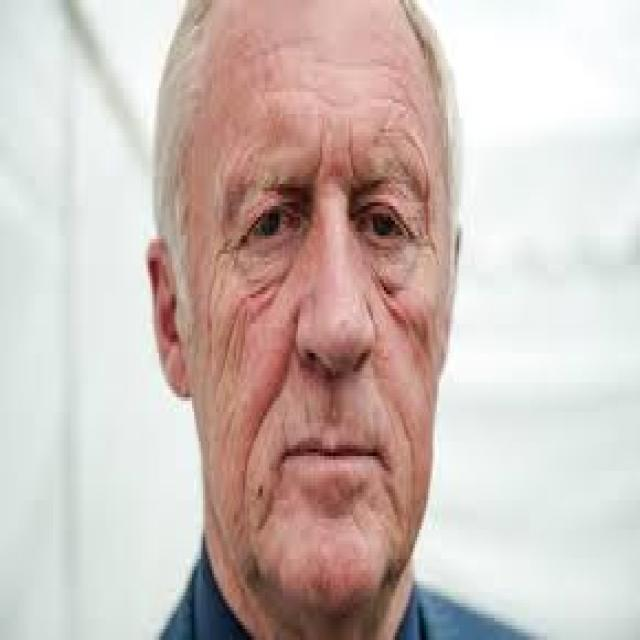normal_face: (168, 0, 459, 633)
